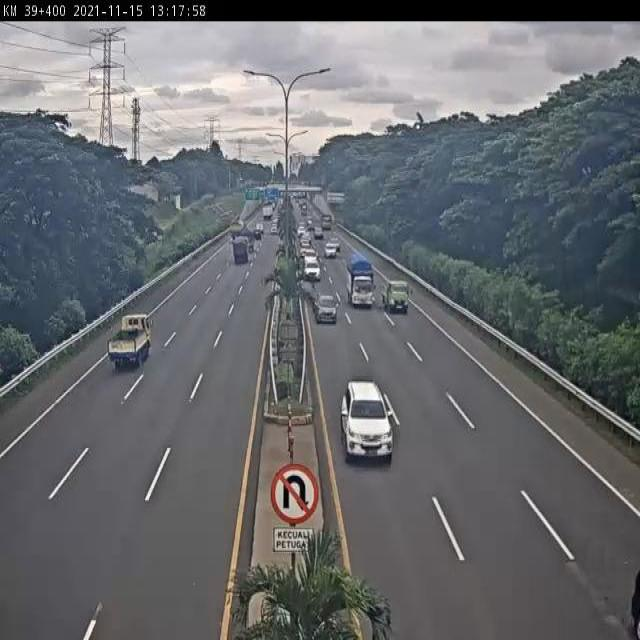car: (339, 377, 396, 464), (313, 293, 339, 324), (302, 256, 322, 283)
truck-m-: (346, 249, 376, 311)
truck-s-: (105, 312, 154, 371), (383, 279, 410, 313)
